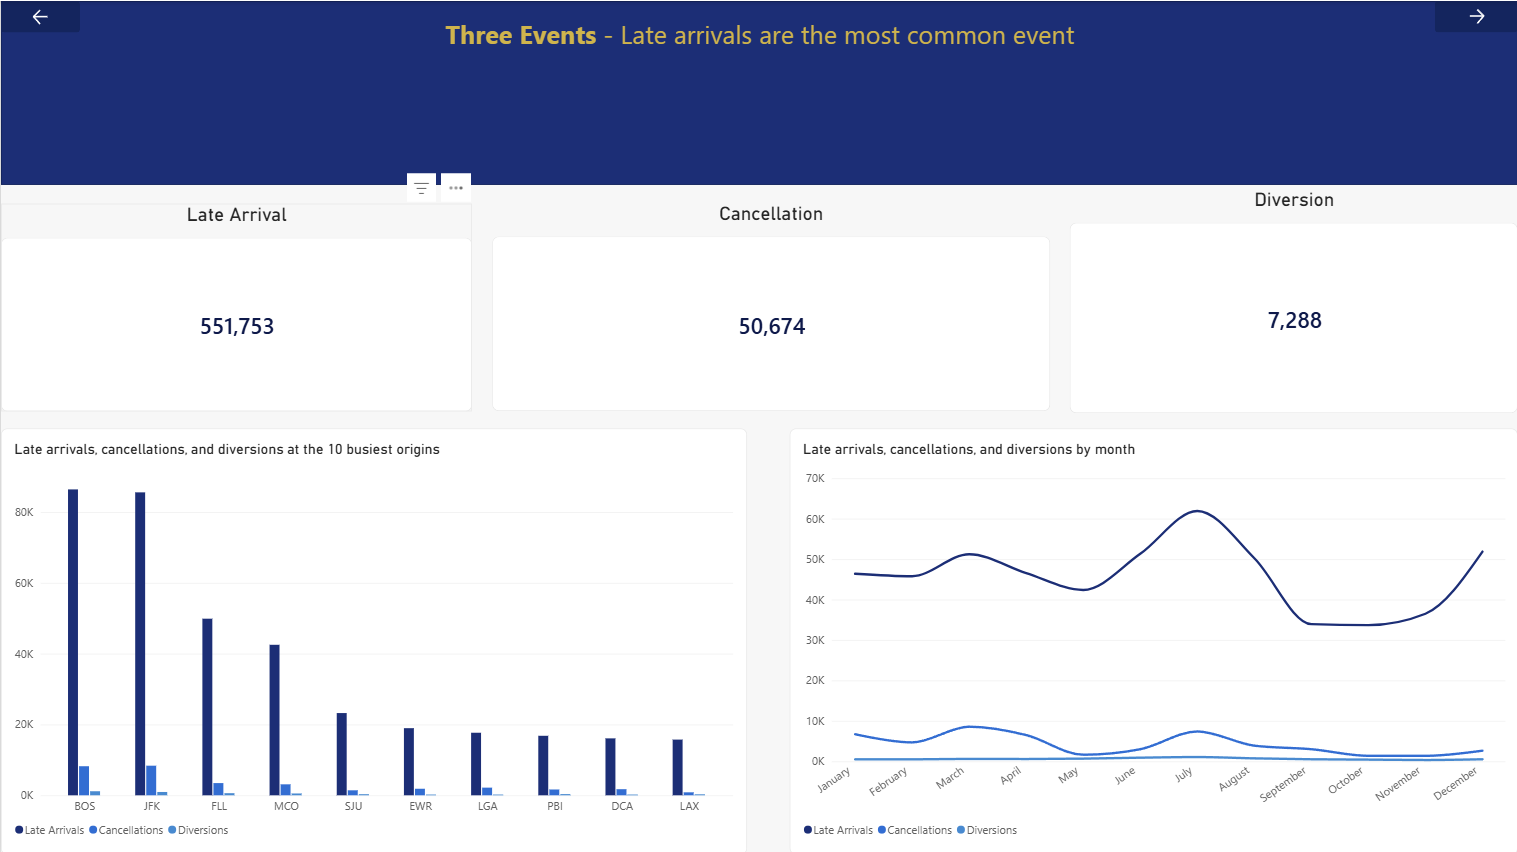

Layout of this report page (visuals, bound fields, positions):
{"tool":"powerbi","page":{"name":"Three Events","canvas":[1920,1080],"ordinal":1},"visuals":[{"type":"shape","box":[0,0,1920.4,232.6],"z":0},{"type":"clusteredColumnChart","title":"Late arrivals, cancellations, and diversions at the 10 busiest origins","fields":{"Category":["Dim_Origin.Airport"],"Y":["Fact_Flight.Late Arrivals","Fact_Flight.Cancellations","Fact_Flight.Diversions"]},"box":[0,540.7,943.6,539],"z":1000},{"type":"cardVisual","title":"Late Arrival ","fields":{"Data":["Fact_Flight.Late Arrivals"]},"box":[0,256.4,596.5,263.4],"z":2000},{"type":"cardVisual","title":"Cancellation ","fields":{"Data":["Fact_Flight.Cancellations"]},"box":[620.9,254.7,706.4,265.1],"z":3000},{"type":"cardVisual","title":"Diversion ","fields":{"Data":["Fact_Flight.Diversions"]},"box":[1351.7,237.2,568.6,284.3],"z":4000},{"type":"lineChart","title":"Late arrivals, cancellations, and diversions by month","fields":{"Category":["Dim_Month.Month_Start.Variation.Date Hierarchy.Month"],"Y":["Fact_Flight.Late Arrivals","Fact_Flight.Cancellations","Fact_Flight.Diversions"]},"box":[997.7,540.7,922.7,539],"z":5000},{"type":"textbox","box":[0,20.6,1920.4,189.4],"z":6000},{"type":"actionButton","box":[1814.2,0,106.2,39.8],"z":7000},{"type":"actionButton","box":[0,0,100,40],"z":8000}]}

Visuals, with their boxes on the page's 1920x1080 design canvas (x1, y1, x2, y2). These are canvas units, not pixel positions in the 1517x852 screenshot, which may show the page scaled, cropped or inside an application window:
shape: box=[0, 0, 1920, 233]
"Late arrivals, cancellations, and diversions at the 10 busiest origins" clusteredColumnChart: box=[0, 541, 944, 1080]
"Late Arrival " cardVisual: box=[0, 256, 596, 520]
"Cancellation " cardVisual: box=[621, 255, 1327, 520]
"Diversion " cardVisual: box=[1352, 237, 1920, 522]
"Late arrivals, cancellations, and diversions by month" lineChart: box=[998, 541, 1920, 1080]
textbox: box=[0, 21, 1920, 210]
actionButton: box=[1814, 0, 1920, 40]
actionButton: box=[0, 0, 100, 40]
